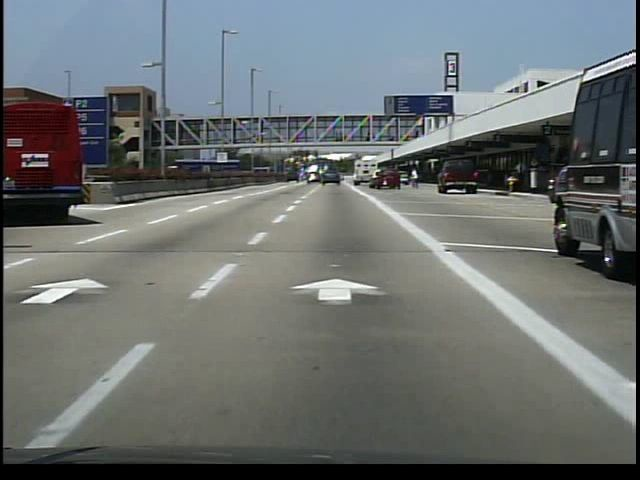person: (513, 160, 529, 198), (409, 168, 423, 191)
